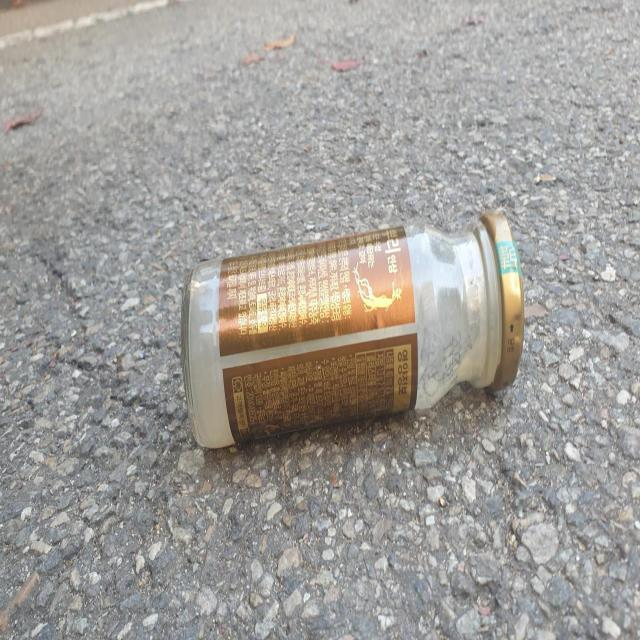glass: (181, 210, 525, 448)
